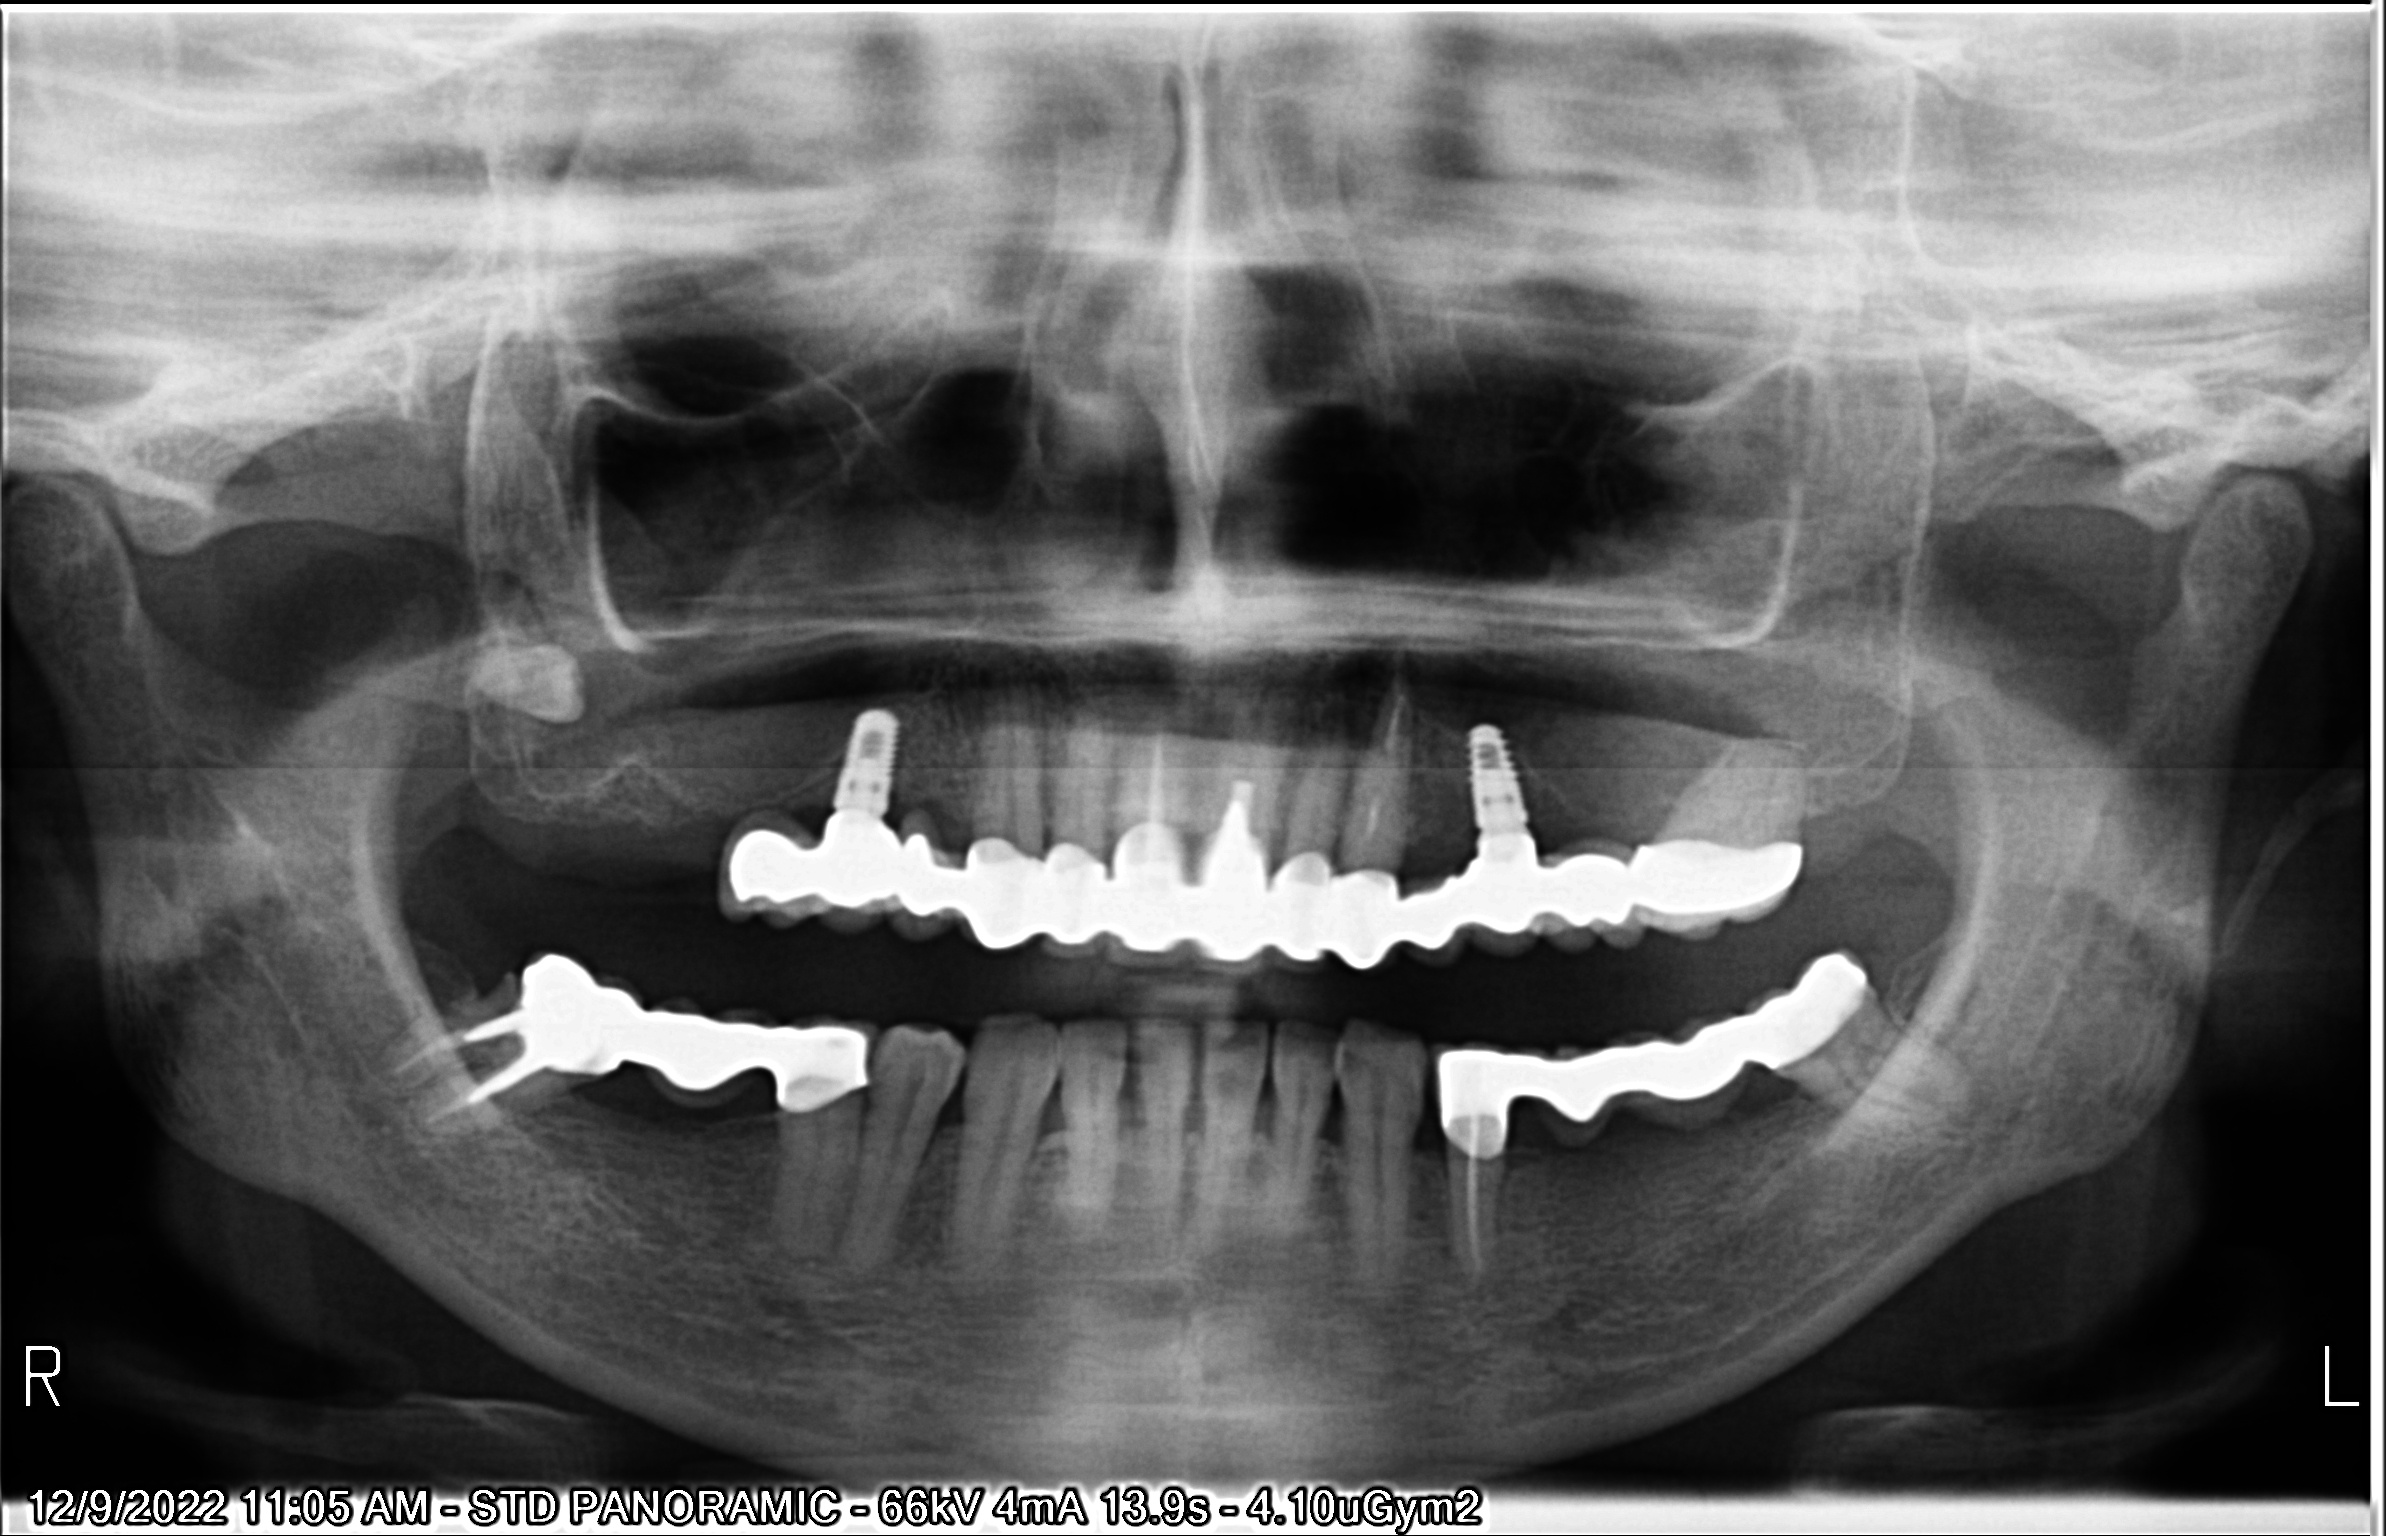BON: (1497, 753, 1588, 849)
CAR: (490, 945, 537, 1000)
END: (370, 1002, 553, 1139), (1334, 677, 1449, 854), (1118, 689, 1177, 842), (1443, 1152, 1494, 1287)
IMP: (1442, 717, 1560, 856), (810, 692, 936, 809)
PRR: (736, 774, 1838, 1002), (1421, 941, 1901, 1179), (503, 938, 923, 1101)
